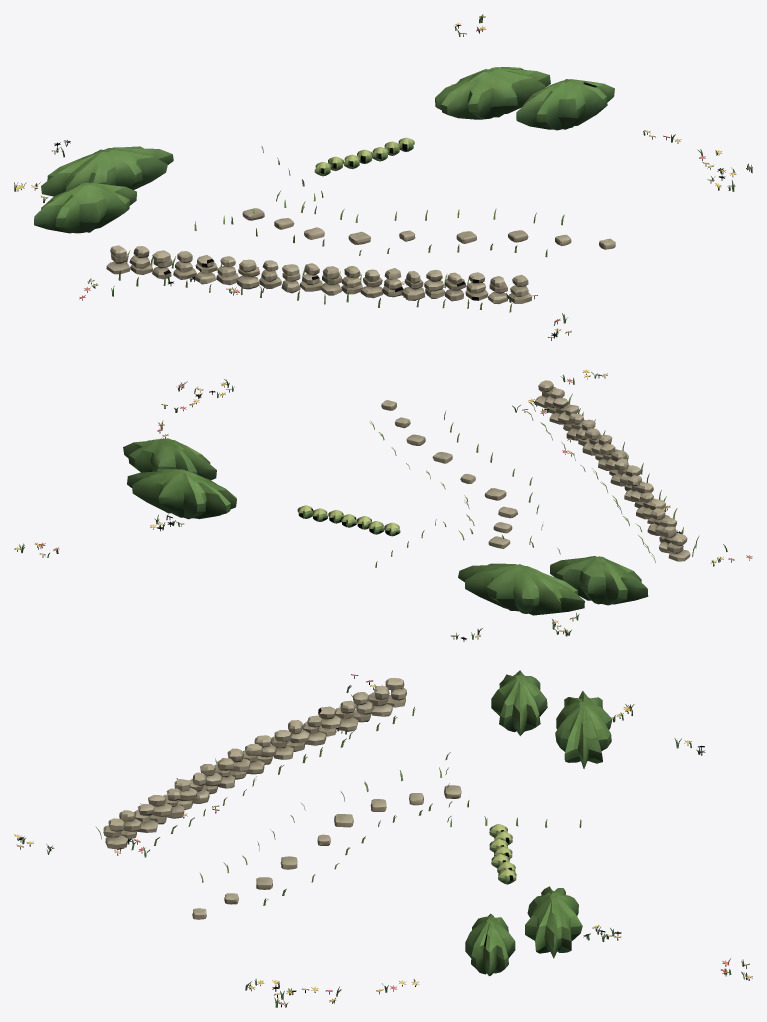
The model's file is foundation_props.glb.
3 renders of one model, top to bottom at view 1: azimuth 30°, elevation 25°; view 2: azimuth 150°, elevation 25°; view 3: azimuth 270°, elevation 25°, orthographic. The views are drawn at different scales.
Parts seen in each view (by area): view 1: Props, props_f_grass, props_f_grass_deep; view 2: Props, props_f_grass, props_f_grass_deep; view 3: Props, props_f_grass, props_f_grass_deep.
Part boxes in pixels (x1,y1,x2,y2): Props: (14, 16, 752, 340); props_f_grass: (118, 146, 564, 312); props_f_grass_deep: (14, 14, 752, 337); Props: (14, 369, 752, 641); props_f_grass: (369, 393, 699, 567); props_f_grass_deep: (19, 372, 727, 639); Props: (14, 670, 752, 1007); props_f_grass: (95, 694, 581, 905); props_f_grass_deep: (22, 684, 747, 1007).
Bounding box in the file's own units: 18.53 × 1.28 × 17.42.
3 materials, 1 textured.
